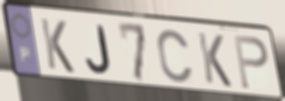7: (116, 20, 148, 85)
C: (156, 28, 196, 86)
J: (84, 23, 113, 76)
K: (195, 30, 234, 90), (38, 16, 77, 75)
P: (232, 33, 271, 92)
